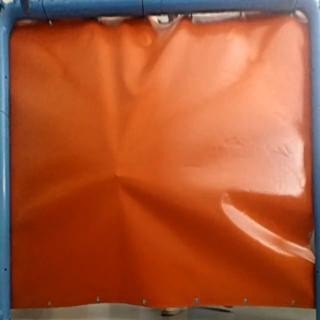Hit-hRxx: (109, 168, 129, 182)
